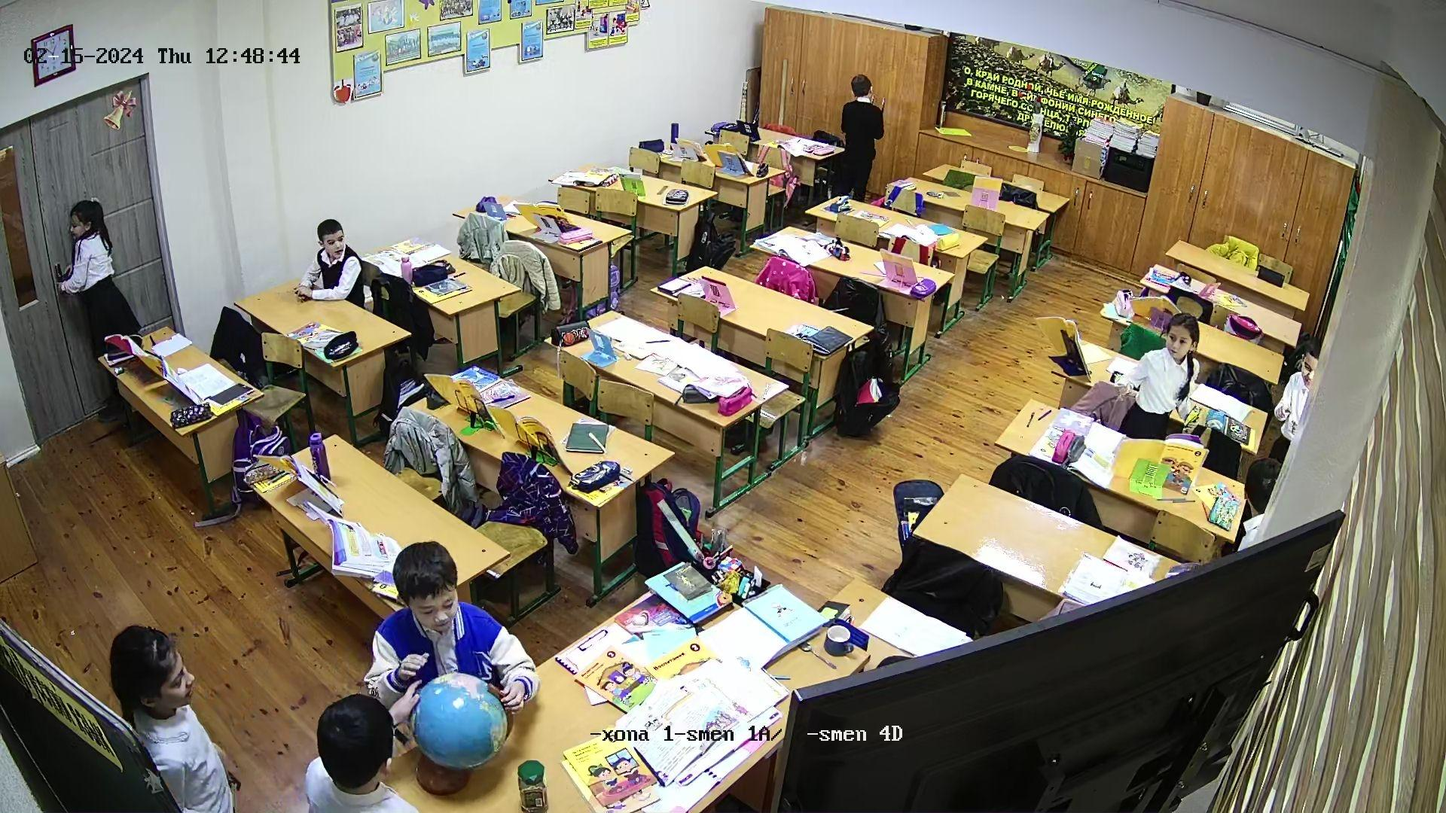Look Around: (306, 214, 383, 307)
Stand Up: (107, 623, 236, 813), (384, 539, 502, 690), (57, 203, 139, 348), (1137, 295, 1200, 446), (847, 60, 887, 194)
